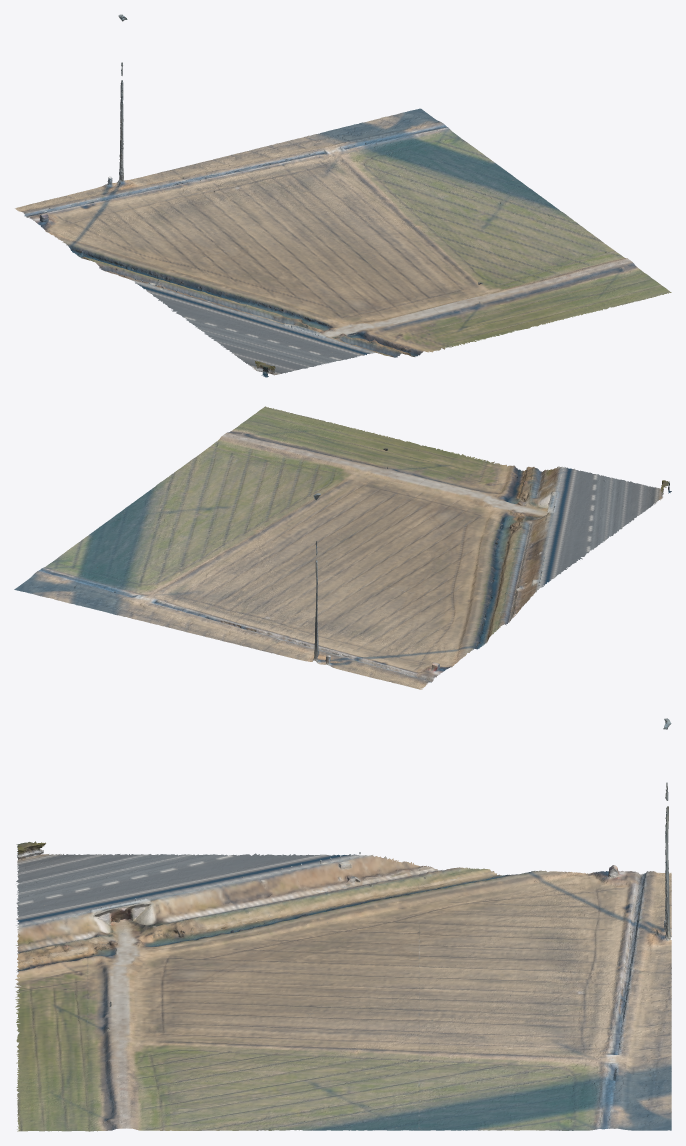
The model's file is EnvAsset_008_Tile_10.obj.
3 renders of one model, top to bottom at view 1: azimuth 30°, elevation 25°; view 2: azimuth 150°, elevation 25°; view 3: azimuth 270°, elevation 25°, orthographic. The views are drawn at different scales.
Visible parts, largest first — view 1: Default; view 2: Default; view 3: Default.
Boxes of the visible parts, box(x1,y1,x2,y2) form: Default: box(15, 14, 671, 377); Default: box(14, 406, 671, 689); Default: box(15, 718, 671, 1131).
Size of the model in its own units: 116 by 46.47 by 124.
1 material, 1 textured.
